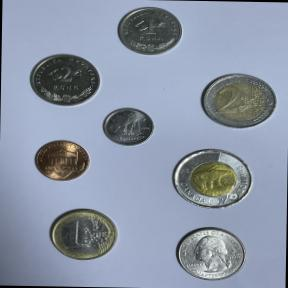coin: (166, 143, 258, 214), (196, 69, 282, 134), (168, 223, 256, 285), (22, 50, 103, 112), (44, 205, 122, 264), (30, 135, 93, 184), (98, 104, 159, 150)
